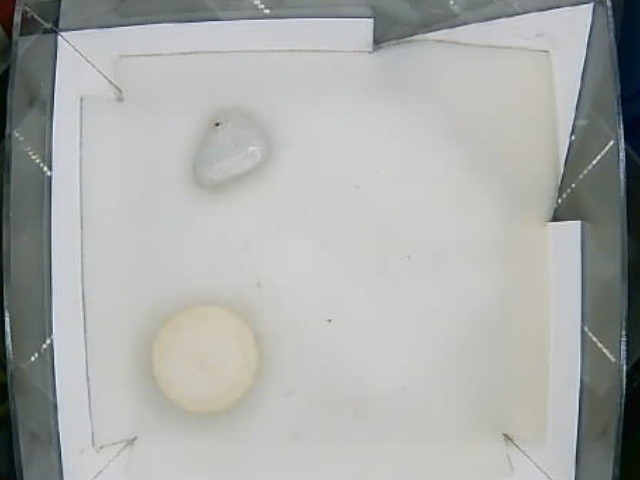Mooli: (155, 305, 259, 414)
Pebble: (194, 104, 268, 191)
